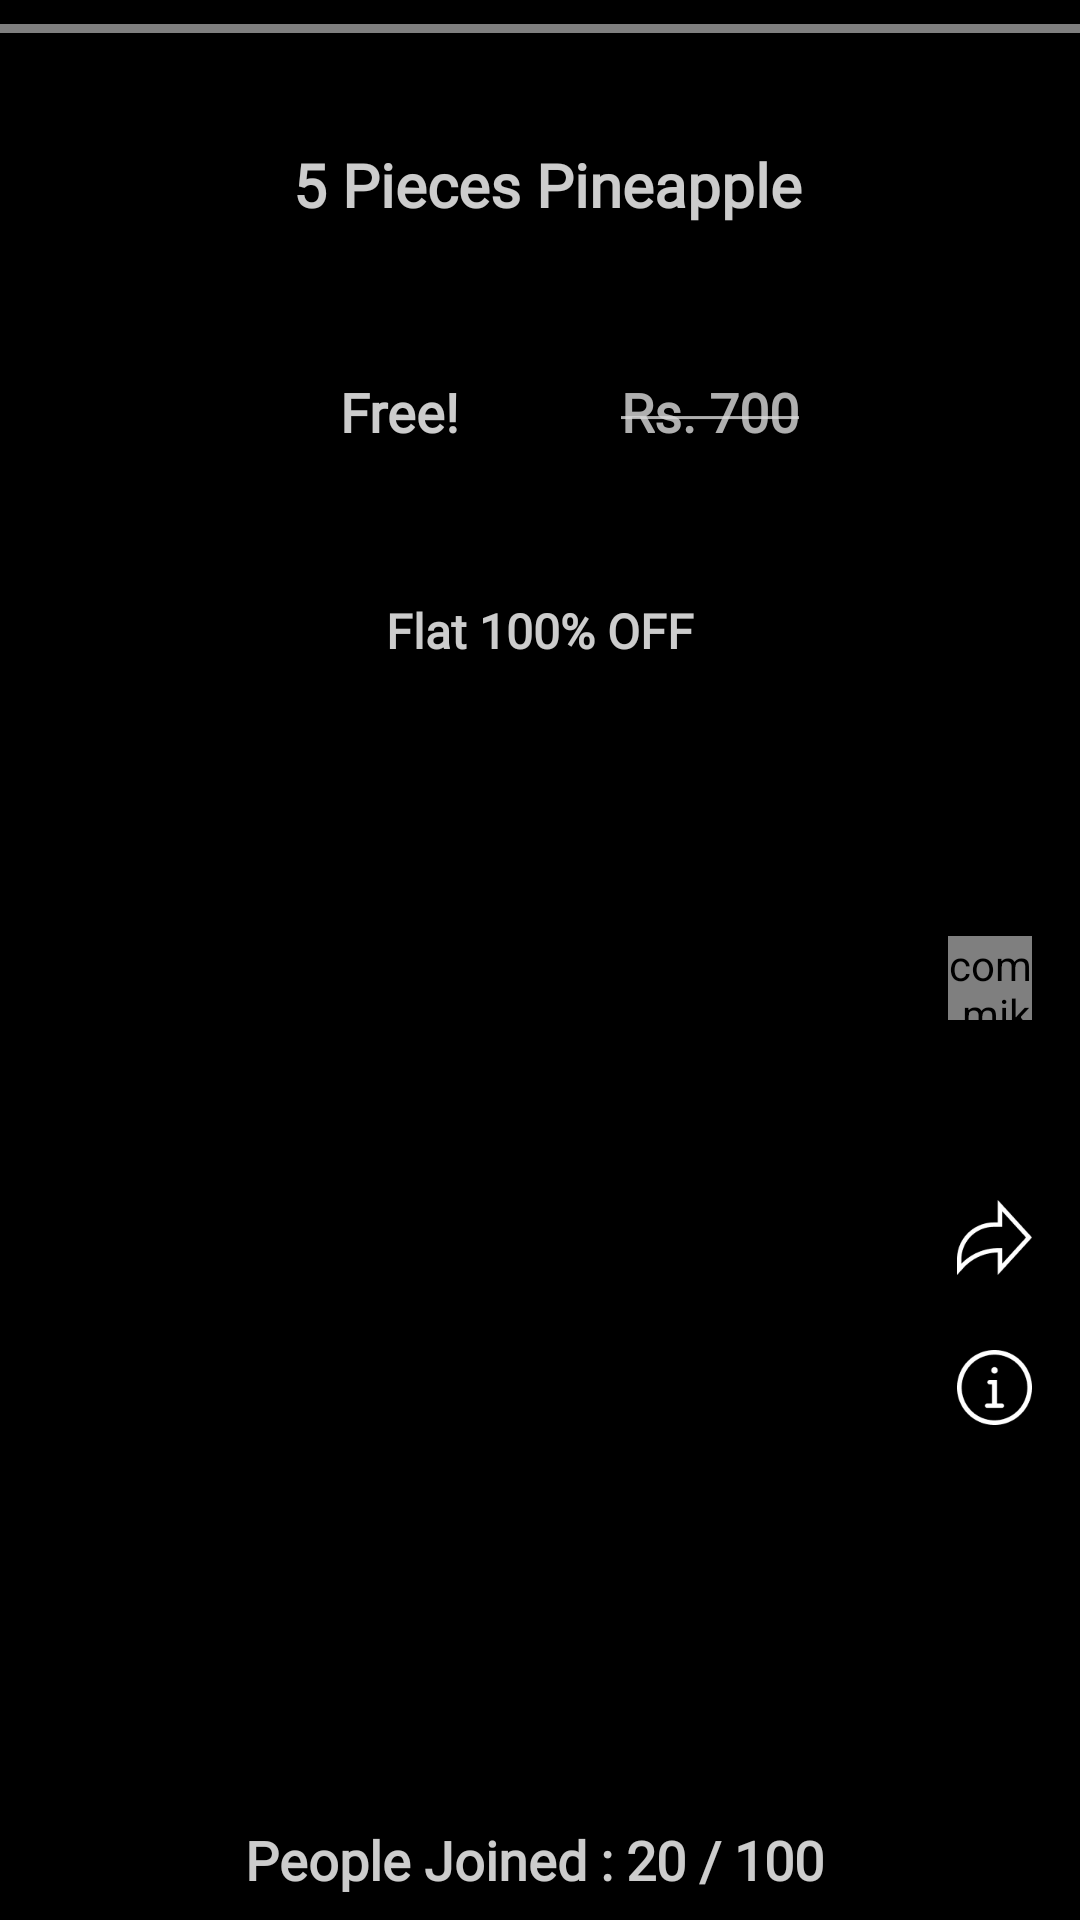

Icon click points for this 1080w x 1920h phone screenshot, format (x,y):
info: (994,1387)
share: (994,1237)
